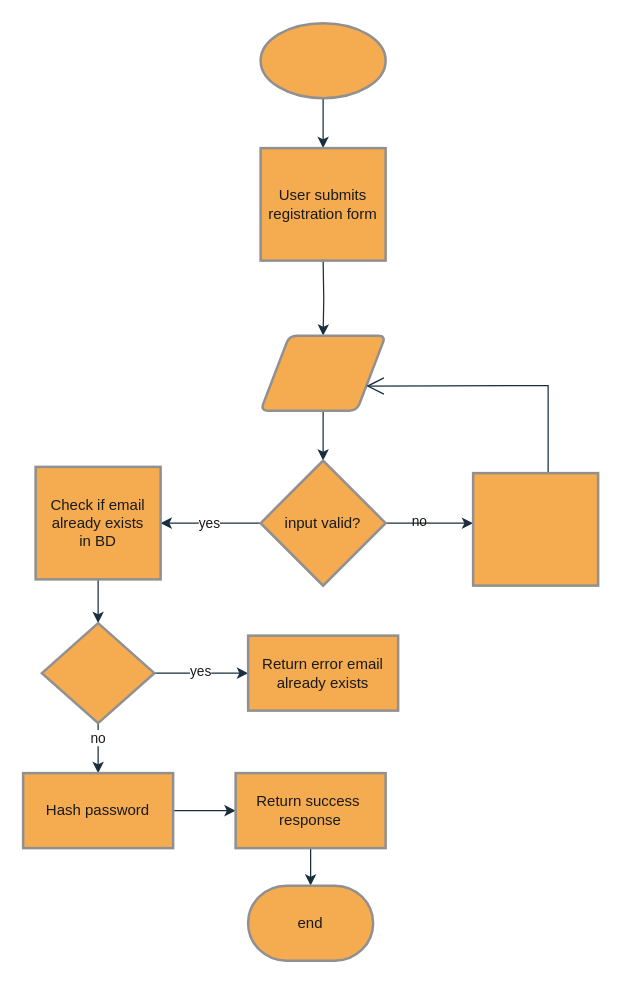
Image size: 620x983. Some labels were removed from this diagram. The centre of each missing label's shape, as x and y in pixels:
"Does email exists?" goes at (97,672).
"show validation error" goes at (535,528).
"Start" goes at (322,60).
"Validate user input" goes at (322,372).
